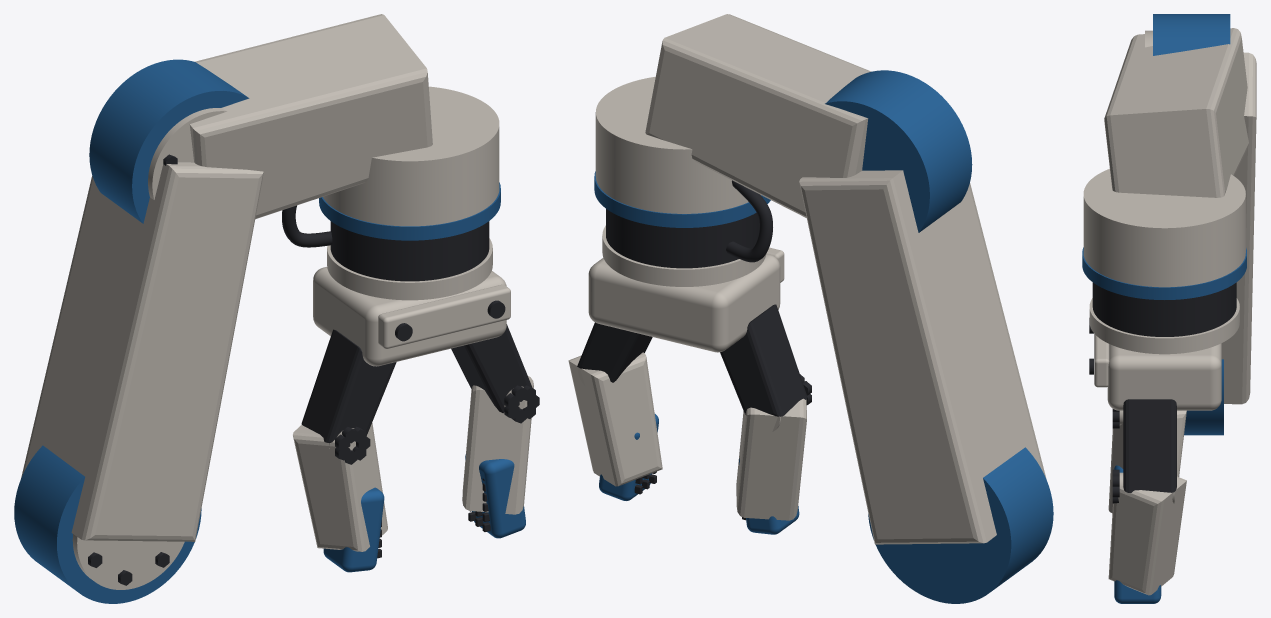
Rendered from anatomy-43.glb.
3 views of the same model, side by side, from view 1: azimuth 30°, elevation 25°; view 2: azimuth 150°, elevation 25°; view 3: azimuth 270°, elevation 25° (orthographic). The views are drawn at different scales.
Parts seen in each view (by area): view 1: arm, joint, links, collar, sensor, tool, tool-plate, pads, wires; view 2: arm, joint, links, collar, tool, sensor, wires, pads; view 3: arm, collar, links, sensor, tool, joint, tool-plate, pads.
Boxes of the visible parts, x1=… form: arm: x1=21, y1=14, x2=432, y2=541; joint: x1=14, y1=59, x2=249, y2=603; links: x1=293, y1=324, x2=539, y2=551; collar: x1=319, y1=86, x2=500, y2=240; sensor: x1=327, y1=221, x2=492, y2=300; tool: x1=313, y1=267, x2=506, y2=366; tool-plate: x1=378, y1=284, x2=510, y2=348; pads: x1=323, y1=454, x2=525, y2=572; wires: x1=282, y1=205, x2=332, y2=247; arm: x1=645, y1=14, x2=1046, y2=544; joint: x1=825, y1=70, x2=1053, y2=603; links: x1=568, y1=304, x2=811, y2=520; collar: x1=594, y1=76, x2=770, y2=227; tool: x1=588, y1=254, x2=780, y2=352; sensor: x1=602, y1=209, x2=766, y2=286; wires: x1=726, y1=180, x2=772, y2=262; pads: x1=599, y1=414, x2=799, y2=534; arm: x1=1104, y1=28, x2=1256, y2=404; collar: x1=1082, y1=168, x2=1246, y2=299; links: x1=1108, y1=399, x2=1186, y2=595; sensor: x1=1089, y1=282, x2=1239, y2=354; tool: x1=1107, y1=343, x2=1221, y2=410; joint: x1=1145, y1=14, x2=1230, y2=435; tool-plate: x1=1089, y1=318, x2=1109, y2=387; pads: x1=1114, y1=465, x2=1161, y2=603.
Size of the model in its own units: 1.59 by 1.59 by 0.5503.
